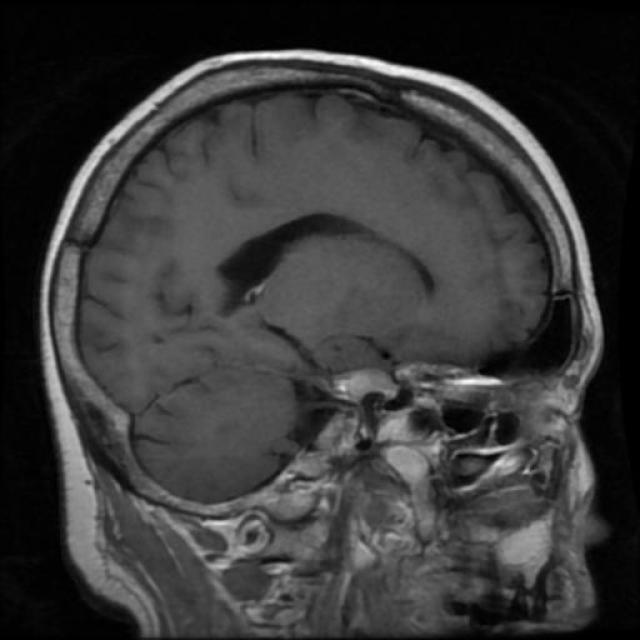pituitary: (307, 342, 403, 460)
